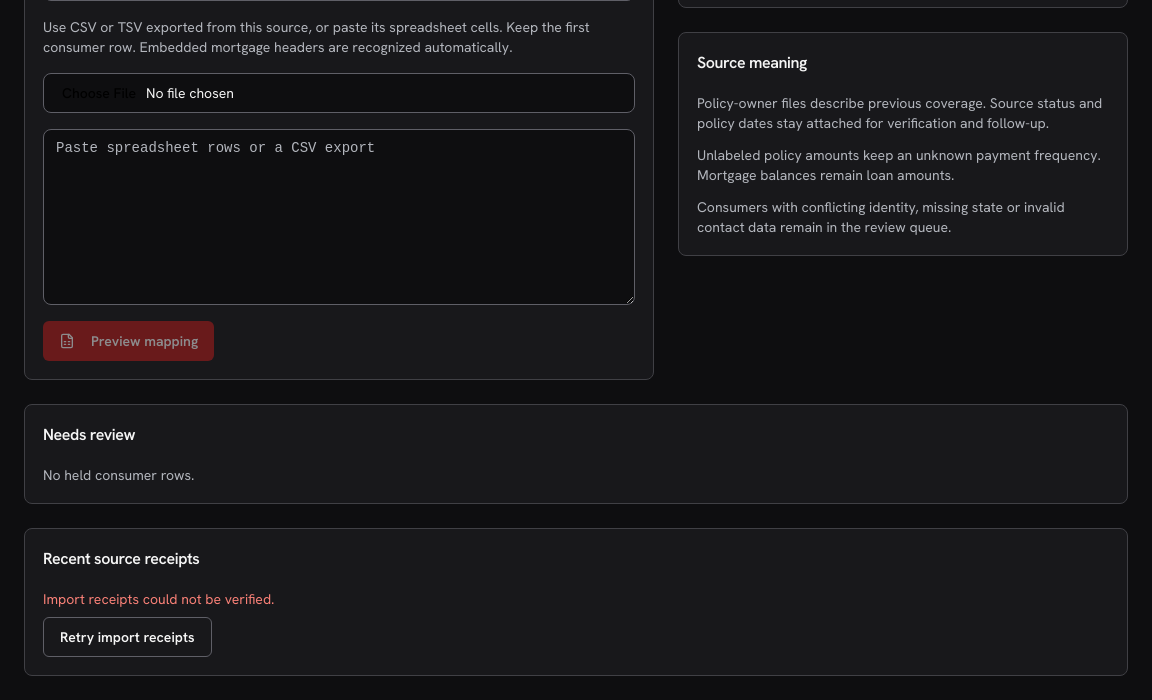
Scenario: consumer intake state and receipts › gives a retry action when receipt rows cannot be verified
(page scrolled)
Expected: the text "Import receipts could not be verified." is shown, 43,590 -> 274,608
Expected: the text "No consumer source receipts yet" is not shown
Click the button "Retry import receipts" at (127, 637), box 43,617 -> 212,657
(page scrolled)
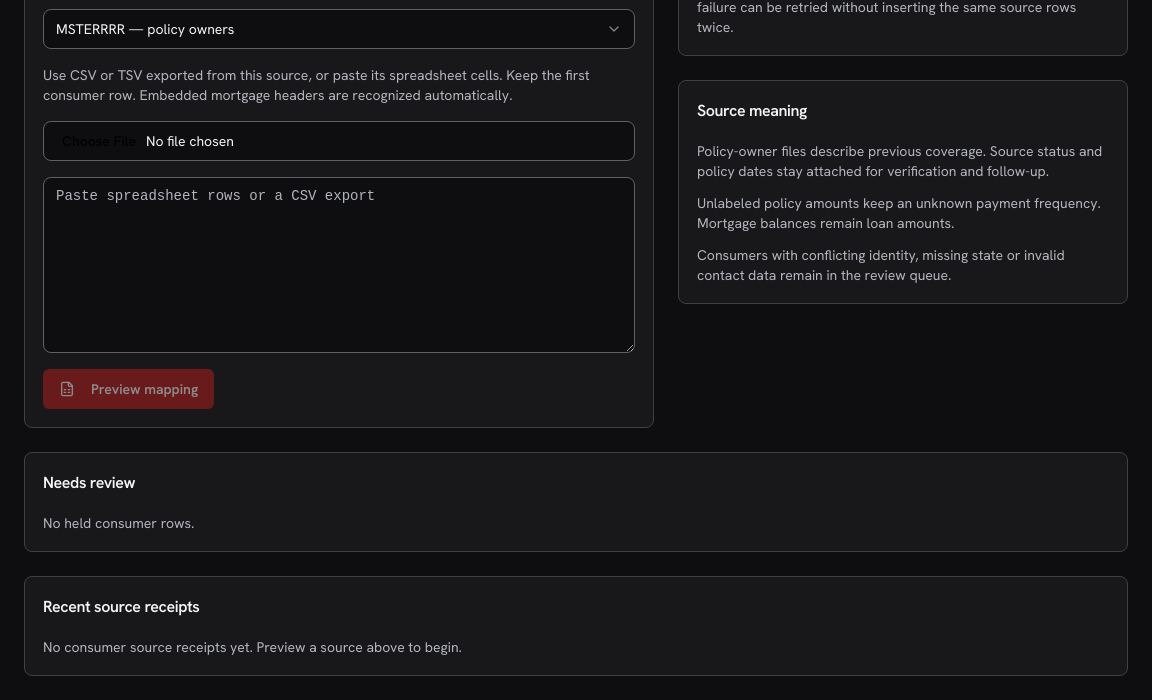
Now the text "No consumer source receipts yet" is shown, box 43,638 -> 462,656
